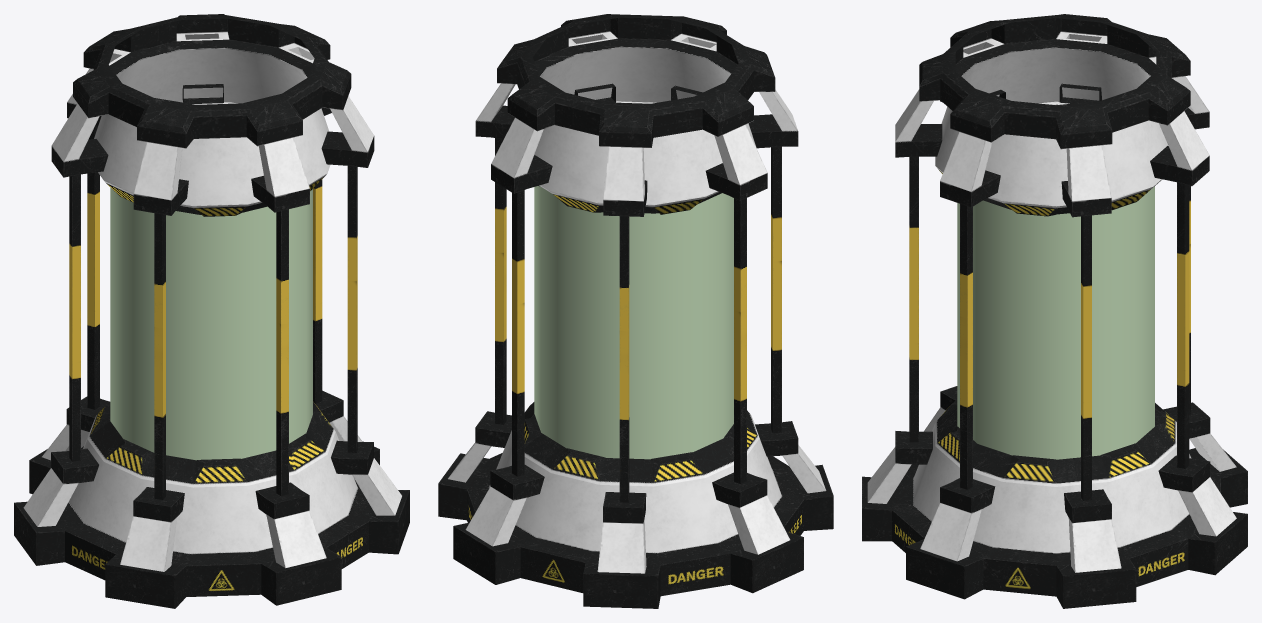
File: capsula.fbx
3 renders of one model, left to right at view 1: azimuth 30°, elevation 25°; view 2: azimuth 150°, elevation 25°; view 3: azimuth 270°, elevation 25°, orthographic.
Visible parts, largest first — view 1: metal1, vidrio1; view 2: metal1, vidrio1; view 3: metal1, vidrio1.
Part boxes in pixels (x1,y1,x2,y2): metal1: (14, 14, 409, 608); vidrio1: (110, 187, 312, 460); metal1: (438, 14, 833, 608); vidrio1: (534, 186, 733, 459); metal1: (862, 14, 1247, 608); vidrio1: (957, 186, 1154, 459).
Bounding box in the file's own units: 194 × 251 × 189.
2 materials, 2 textured.
